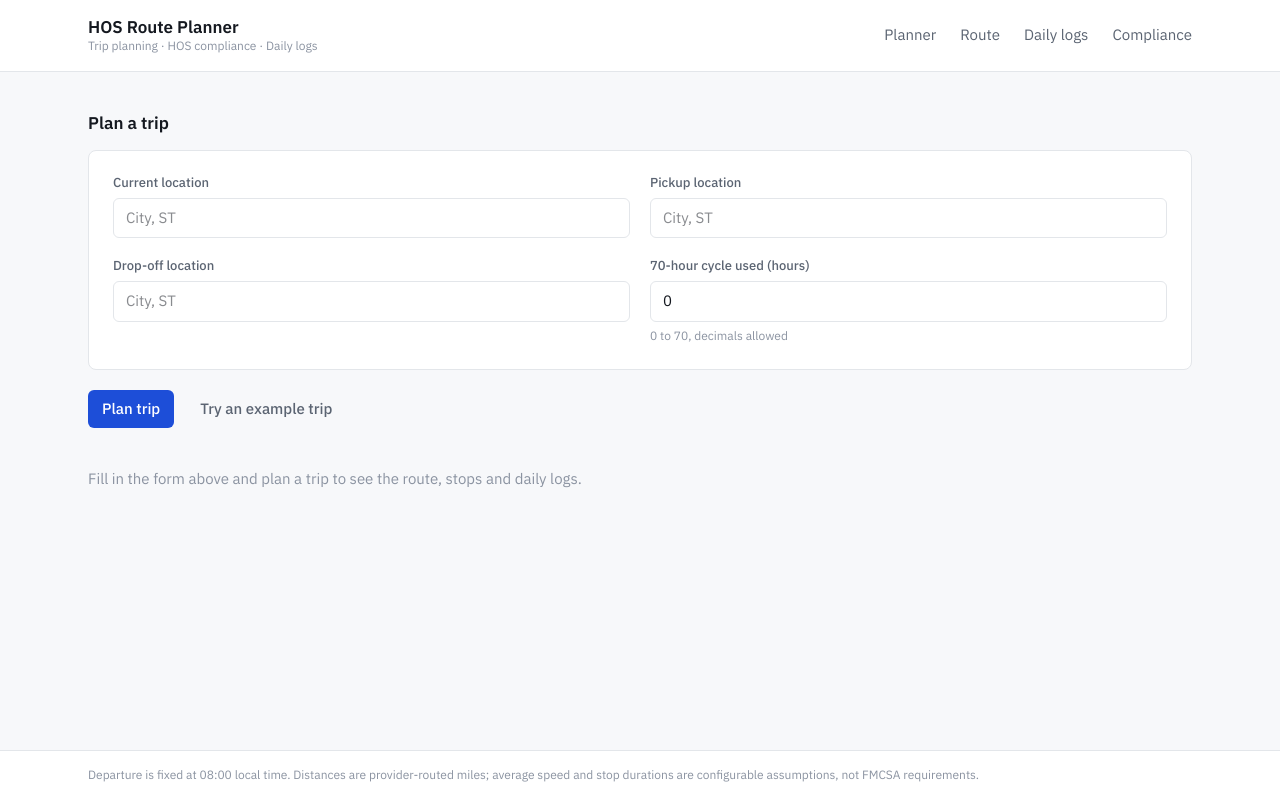
it: App trip-planning flow › shows a retry-able error alert when the API returns an error envelope
What coordinates should you click on to do the following:
click the button "Try an example trip"
I would click on:
 (266, 409)
Its box is [186, 390, 346, 428].
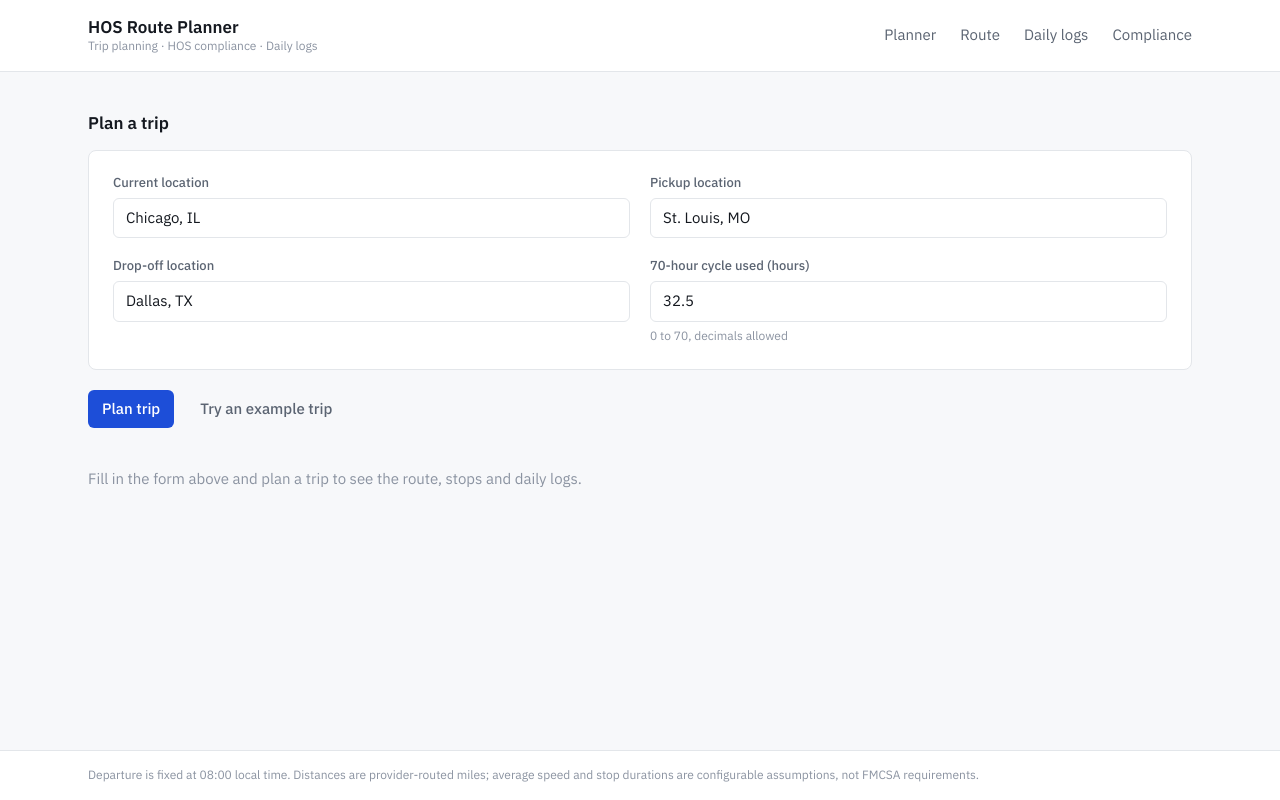
What coordinates should you click on to do the following:
click the button "Plan trip"
I would click on:
 (131, 409)
Its box is [88, 390, 174, 428].
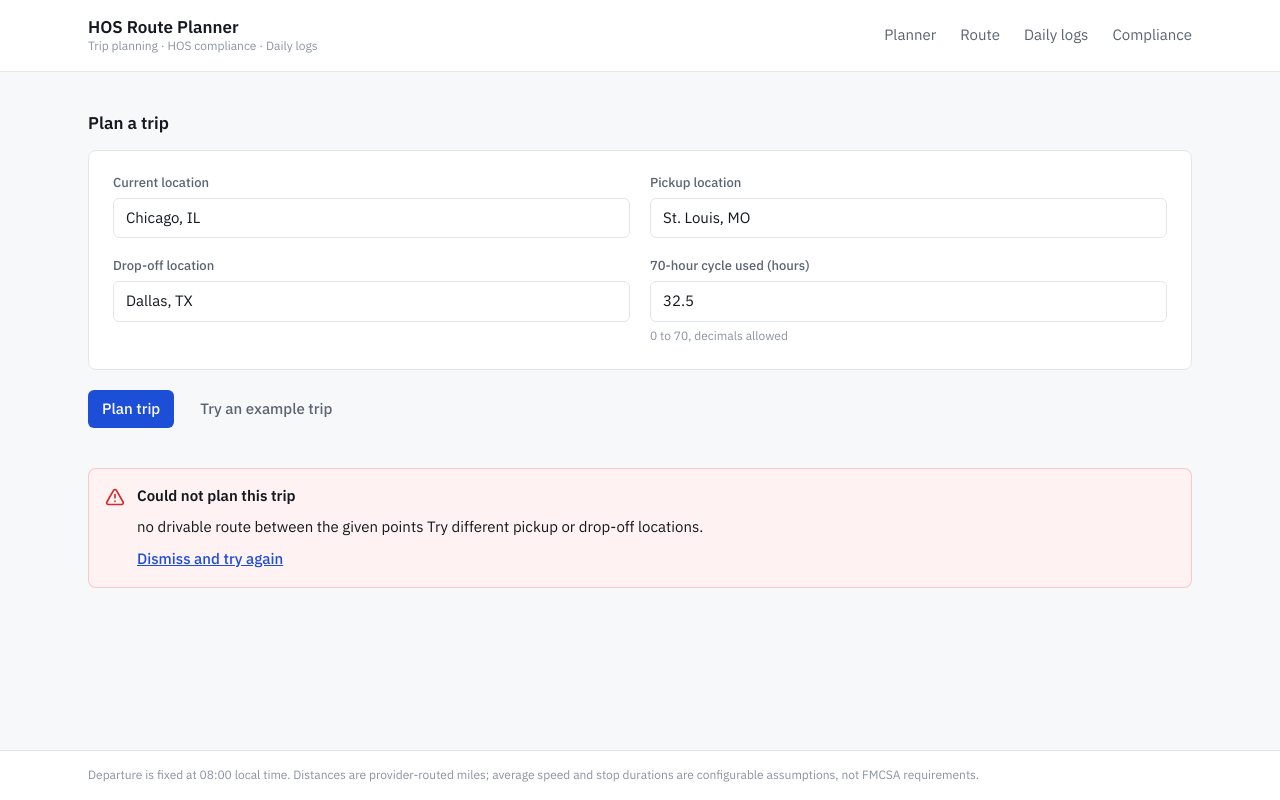
Now the message shows "no drivable route between the given points", box [137, 517, 703, 536]
Now the button "Dismiss and try again" is shown, box [137, 548, 283, 571]
